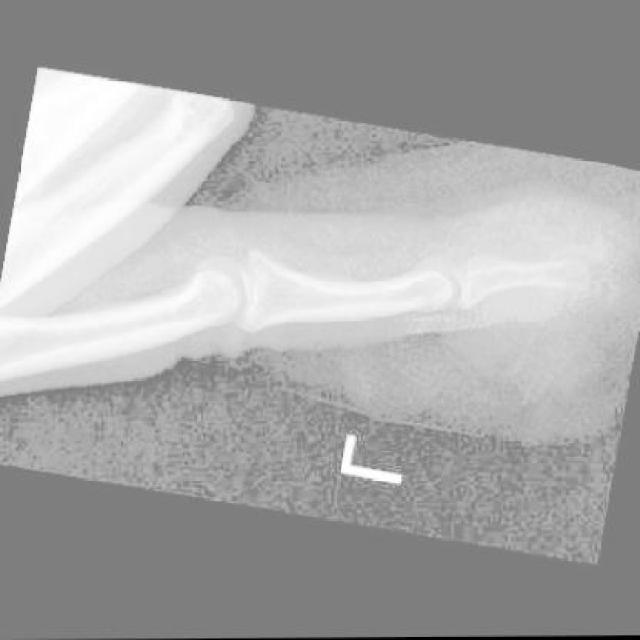Fracture: (523, 228, 620, 313)
